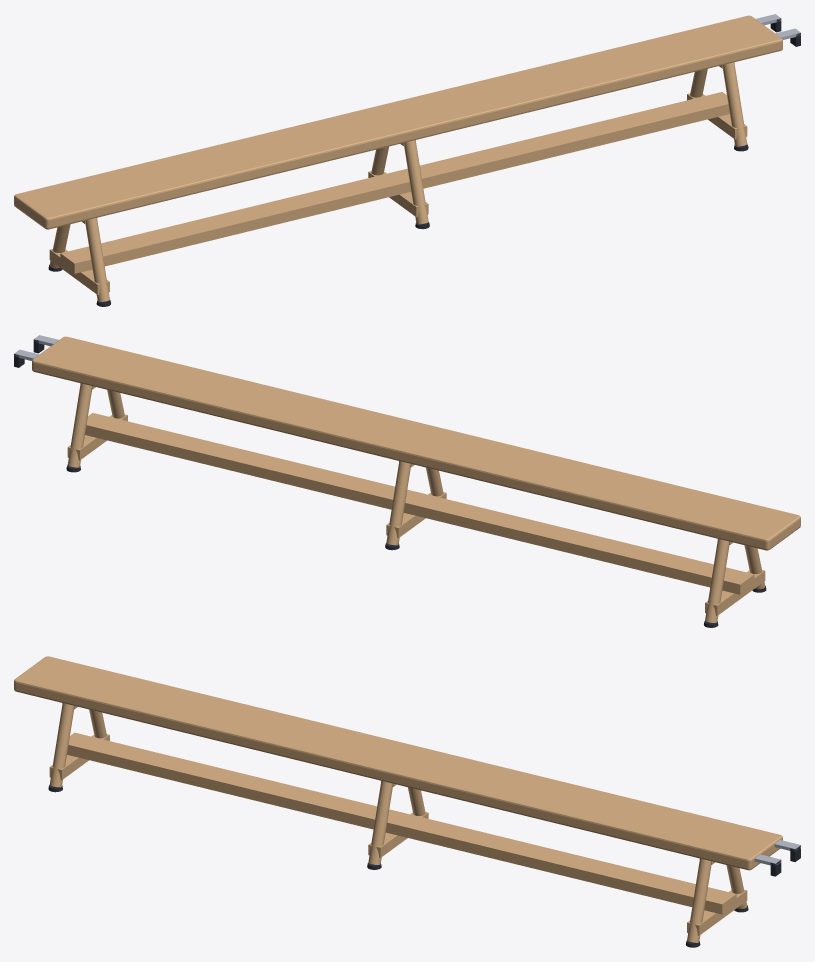
File: sch-029.glb
3 views of the same model, one above another, from view 1: azimuth 30°, elevation 25°; view 2: azimuth 150°, elevation 25°; view 3: azimuth 330°, elevation 25° (orthographic).
Visible parts, largest first — view 1: beech, plastic_dark; view 2: beech, plastic_dark; view 3: beech, plastic_dark.
Part boxes in pixels (x1,y1,x2,y2): beech: (14, 15, 782, 301); plastic_dark: (48, 18, 800, 306); beech: (32, 336, 800, 622); plastic_dark: (14, 339, 766, 627); beech: (14, 656, 782, 942); plastic_dark: (48, 785, 800, 947).
Size of the model in its own units: 3.1 by 0.3575 by 0.392.
